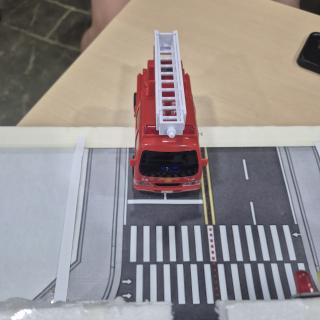Fire_truck: (130, 32, 207, 193)
